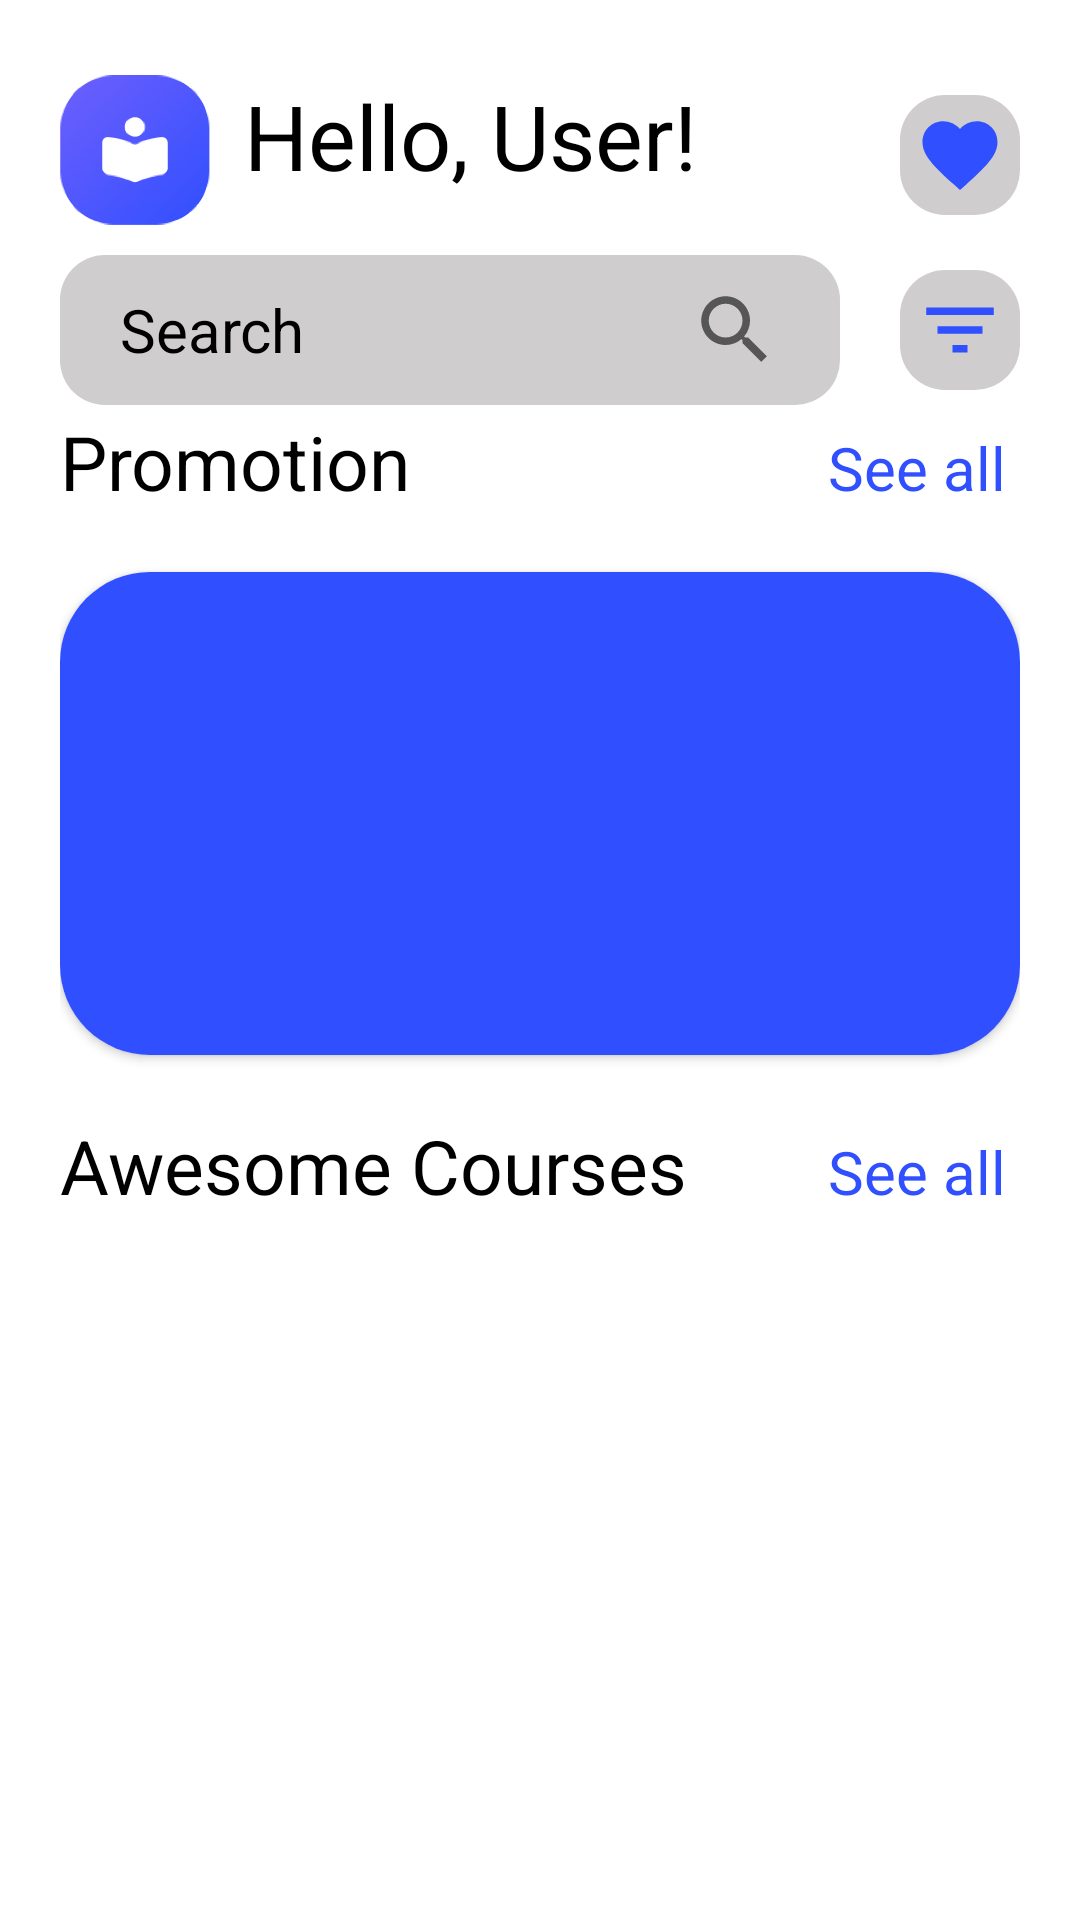

Where icons sit on this 1080px x 1920px app screen, as (x1, y1, x2, y2):
favorite: (922, 121, 998, 190)
filter: (926, 307, 994, 353)
search: (701, 296, 767, 362)
